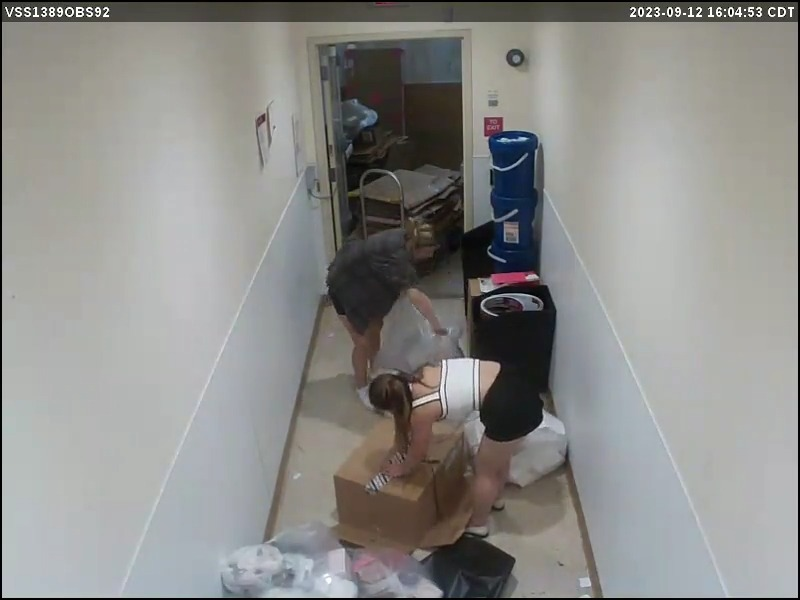No-gloves: (386, 456, 426, 480), (425, 314, 452, 340)
